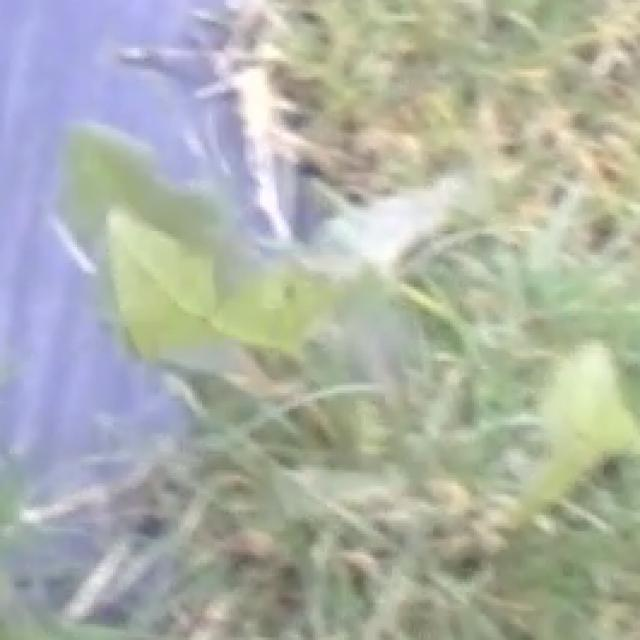organic waste: (17, 72, 640, 603)
